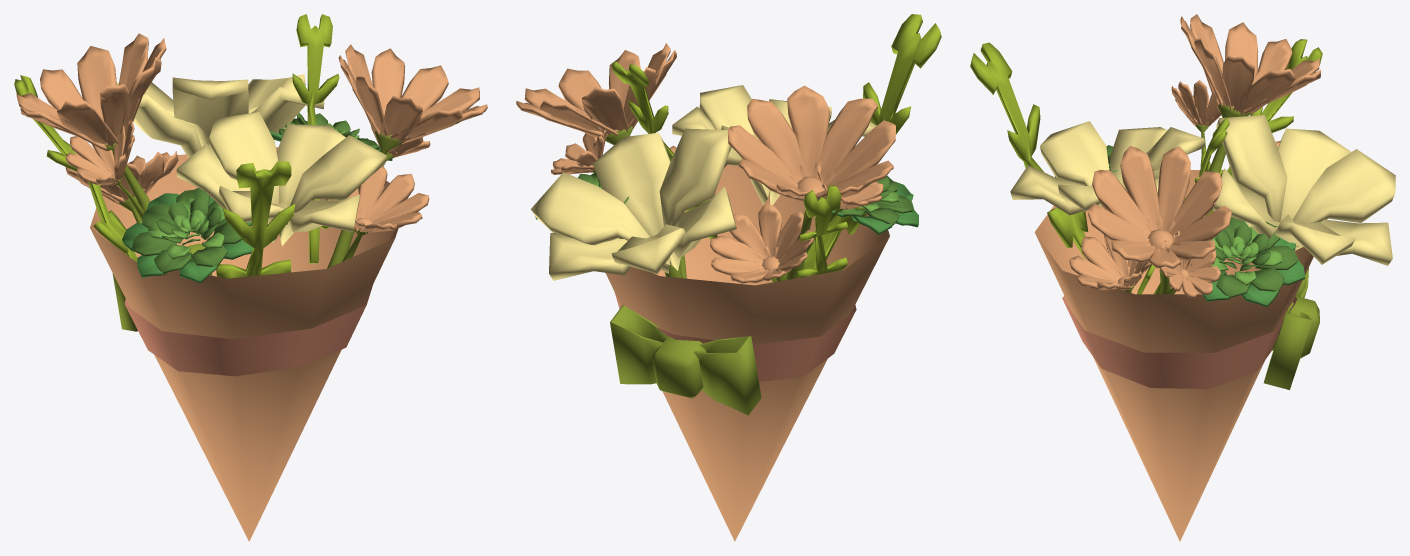
The model's file is Bouquet.gltf.
3 views of the same model, side by side, from view 1: azimuth 30°, elevation 25°; view 2: azimuth 150°, elevation 25°; view 3: azimuth 270°, elevation 25° (orthographic). The views are drawn at different scales.
Visible parts, largest first — view 1: Plane.003; view 2: Plane.003; view 3: Plane.003.
Part boxes in pixels (box(x1,y1,x2,y2)): Plane.003: box(14, 14, 487, 541); Plane.003: box(516, 14, 941, 541); Plane.003: box(970, 14, 1395, 541).
Bounding box in the file's own units: 0.5192 × 0.5905 × 0.4878.
Materials: 1 (1 with a texture image).
